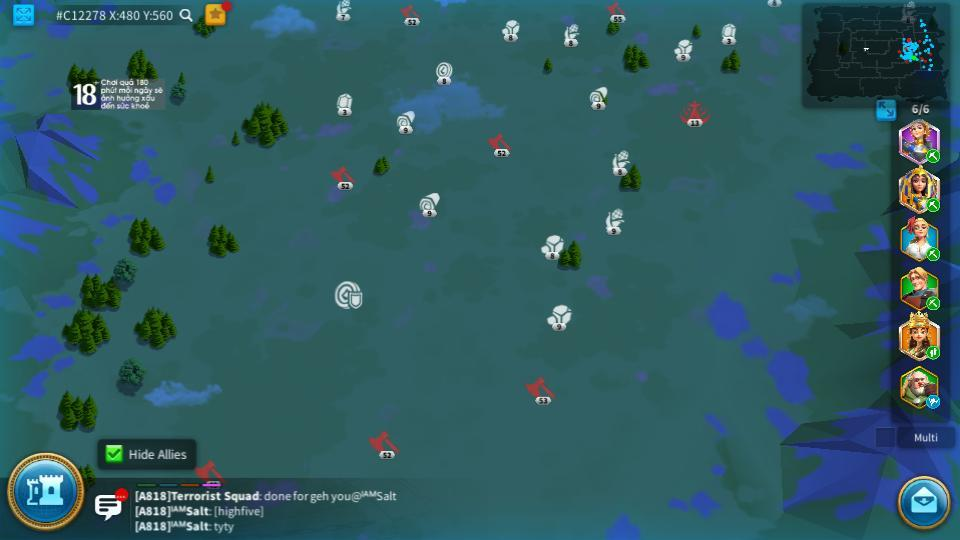gem-z-out: (333, 94, 354, 115), (719, 23, 736, 44)
march_idle: (925, 394, 941, 408)
march_marching: (925, 197, 941, 212), (925, 149, 941, 162), (925, 248, 942, 260), (925, 347, 941, 359), (925, 297, 942, 308)
